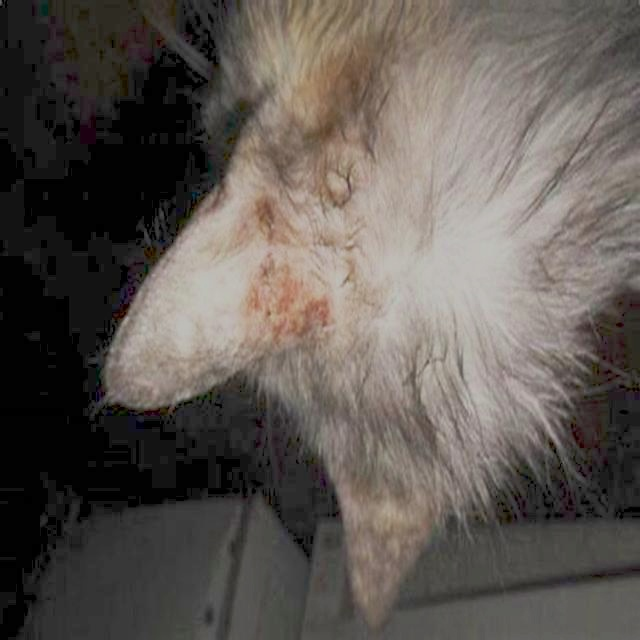ringworm: (247, 195, 339, 341)
